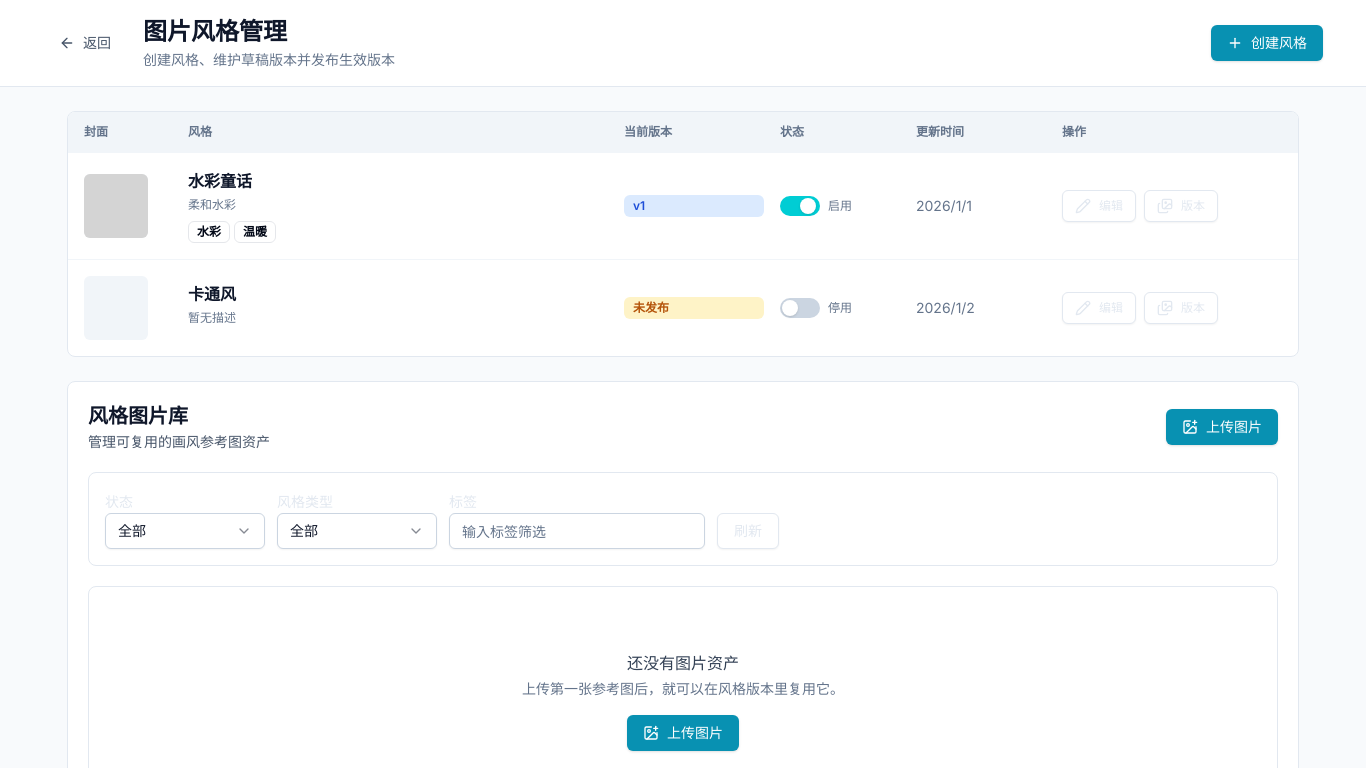
Test: ImageStylesView › opens create style dialog
The width and height of the screenshot is (1366, 768).
Expected: the heading "水彩童话" is shown, [188,171,252,191]
What coordinates should you click on to do the following:
click the button "创建风格"
I would click on:
 (1267, 43)
Its box is [1211,25,1323,61].
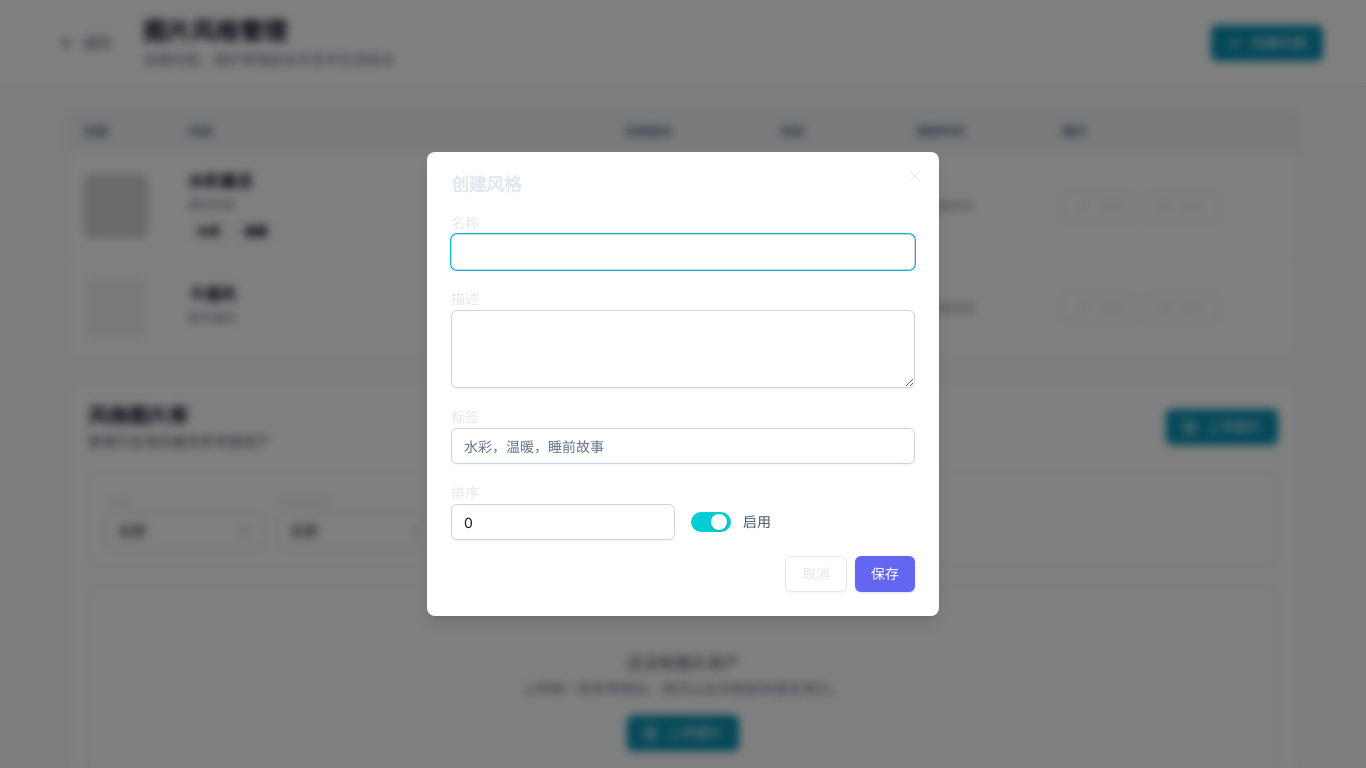
Result: the text "名称" is shown at [451,214,479,231]
